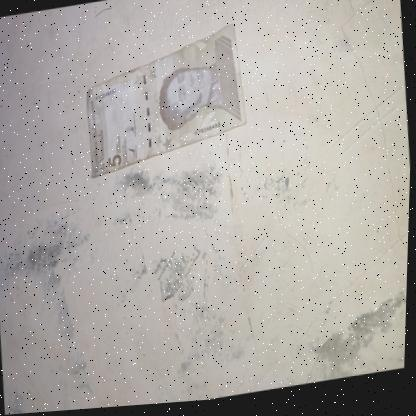five-front-vef: (79, 25, 252, 180)
